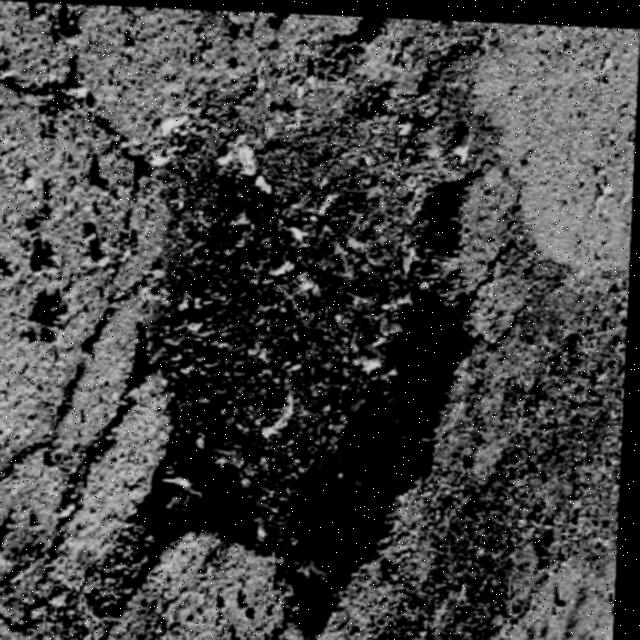Pothole: (126, 9, 496, 640)
